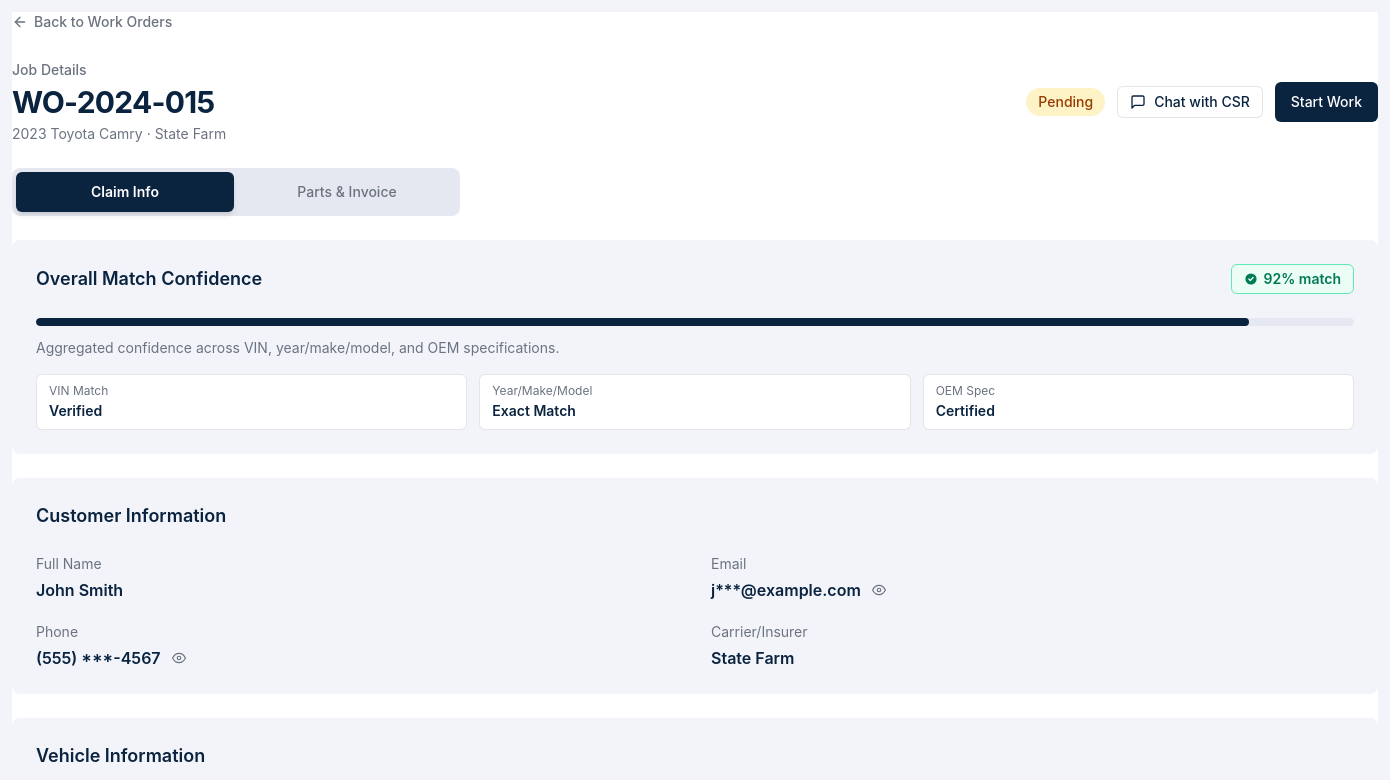
Test: WorkshopJobDetailPage › reveals customer phone after clicking the reveal toggle
The width and height of the screenshot is (1390, 780).
Click the button named "show phone for WO-2024-015".
click(179, 658)  # box top-left (167, 646), bottom-right (191, 670)
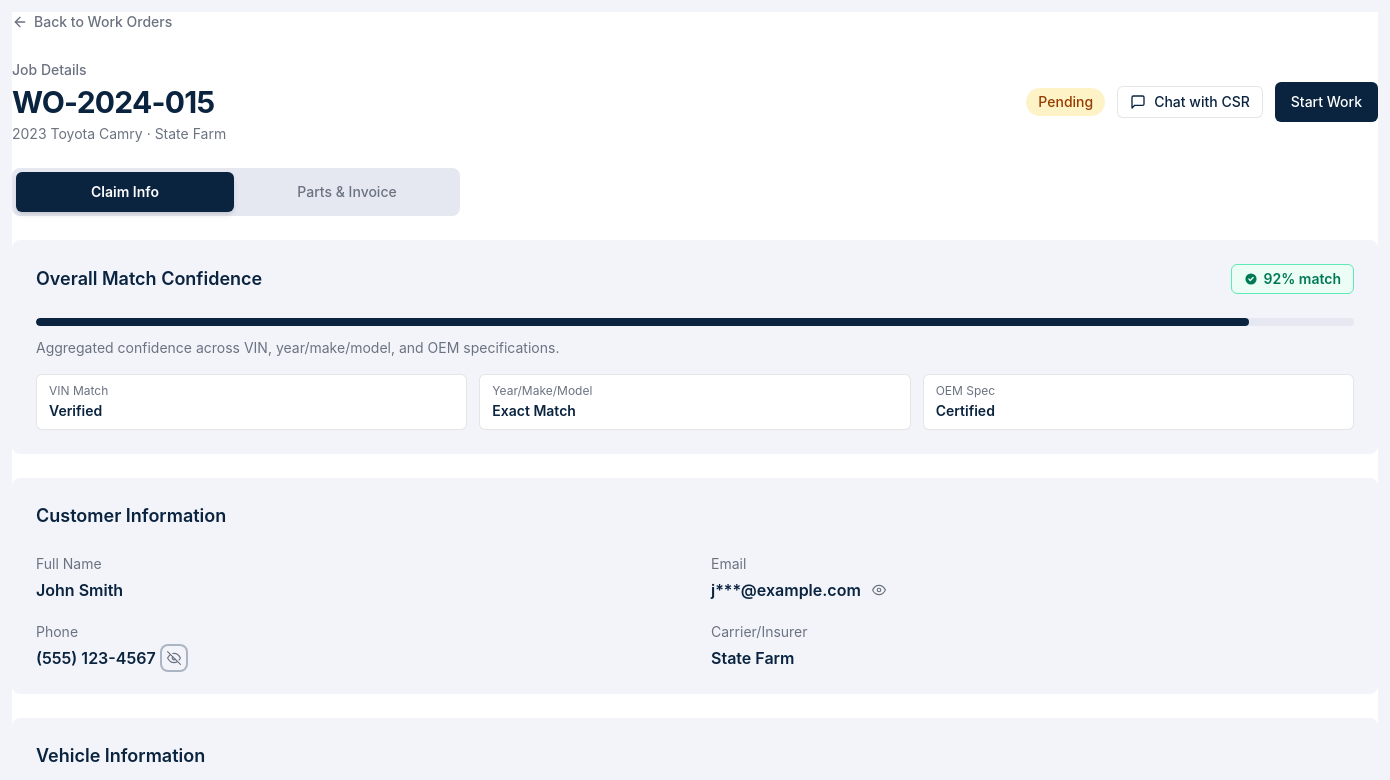
Expected: the text "(555) 123-4567" is shown, top-left (36, 646), bottom-right (156, 670)
